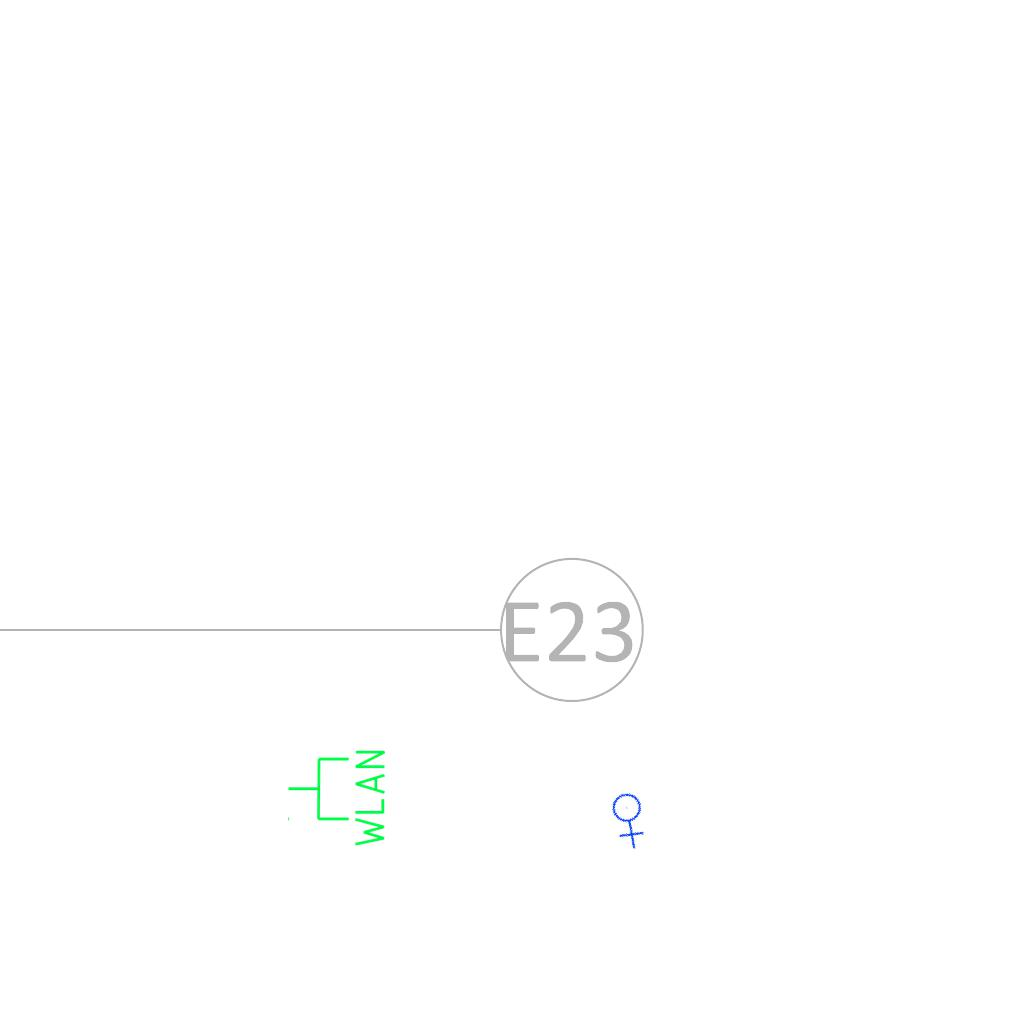Elektroanschluss_allgemein_230V_Geraeteanschlussdose_230V: (597, 784, 664, 851)
WLAN: (285, 746, 389, 851)
